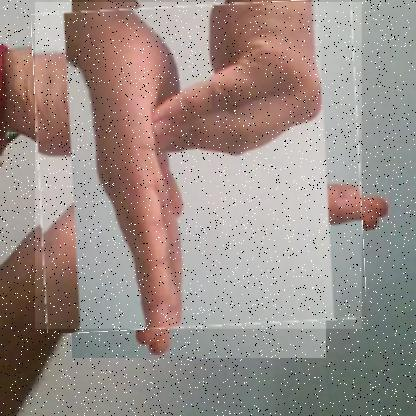Z: (35, 2, 363, 330)
